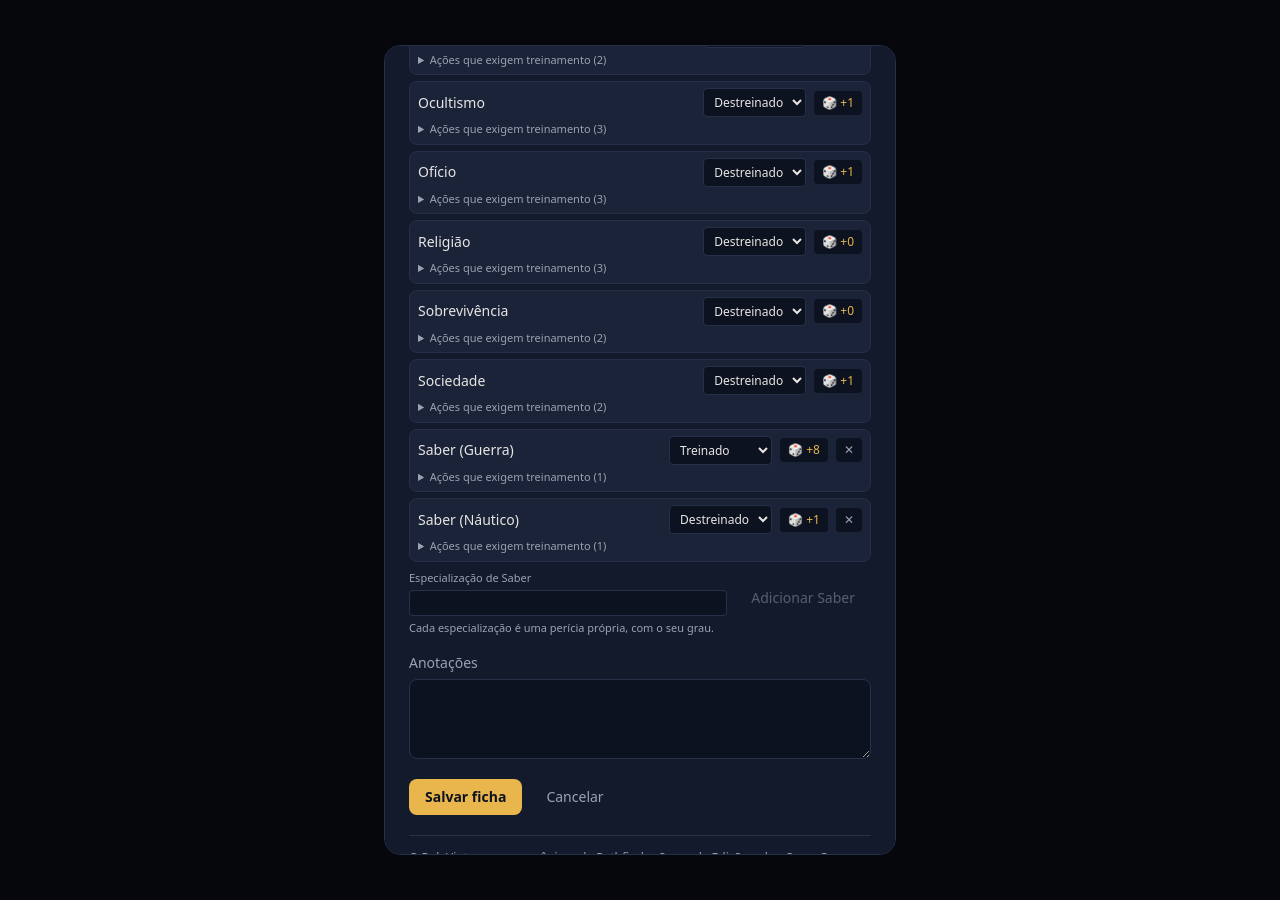
Test case: Saber é uma família na ficha (RV-153) › remover a especialização tira a linha, e a perícia fixa não tem esse botão
The image size is (1280, 900).
(page scrolled)
Step 1. Click the button named "Remover Saber (Guerra)" → click(849, 450), box [836, 438, 862, 462]
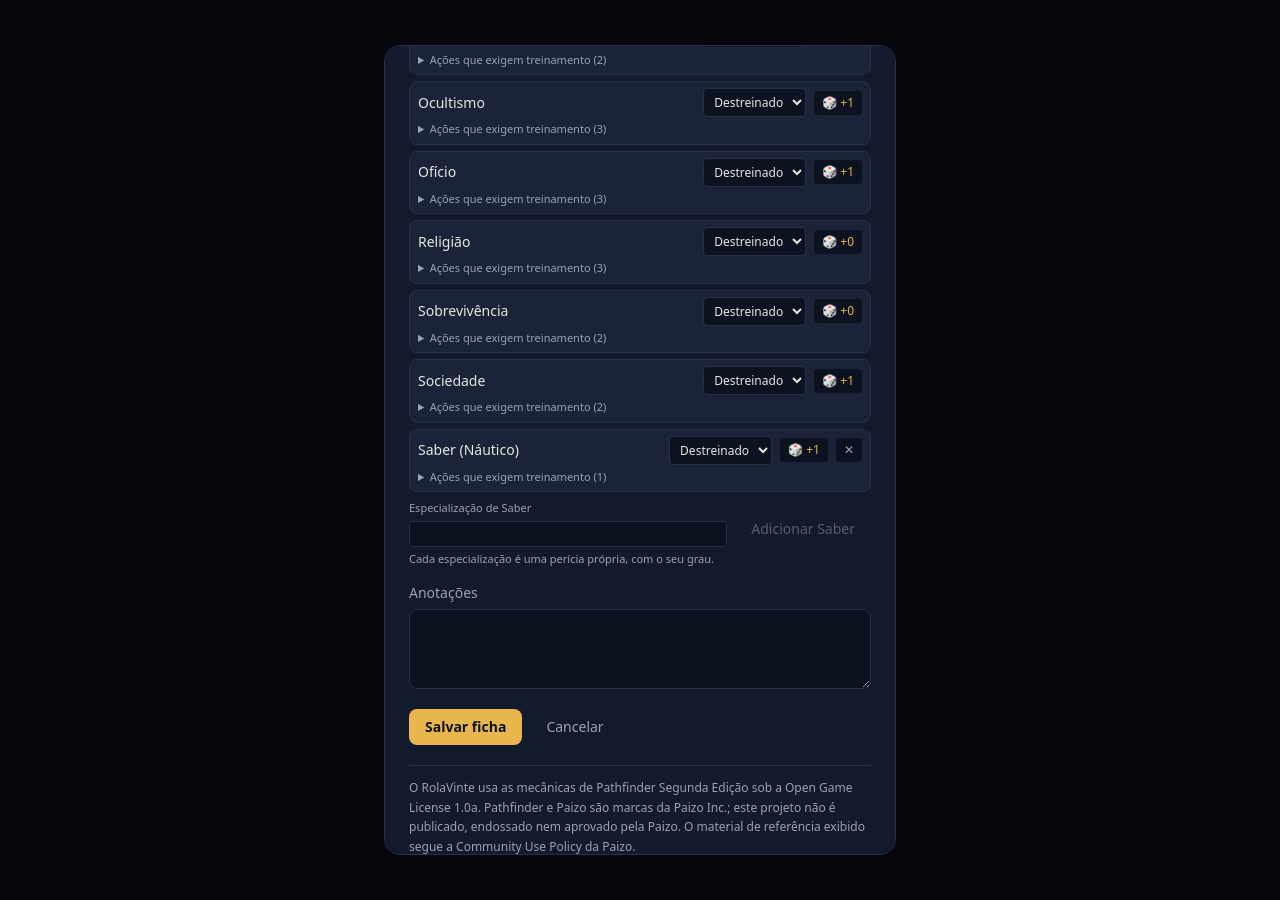
Expected: the dropdown labelled "Saber (Náutico)" is shown, [669, 436, 772, 464]
Expected: the label labelled "Saber (Guerra)" is gone
